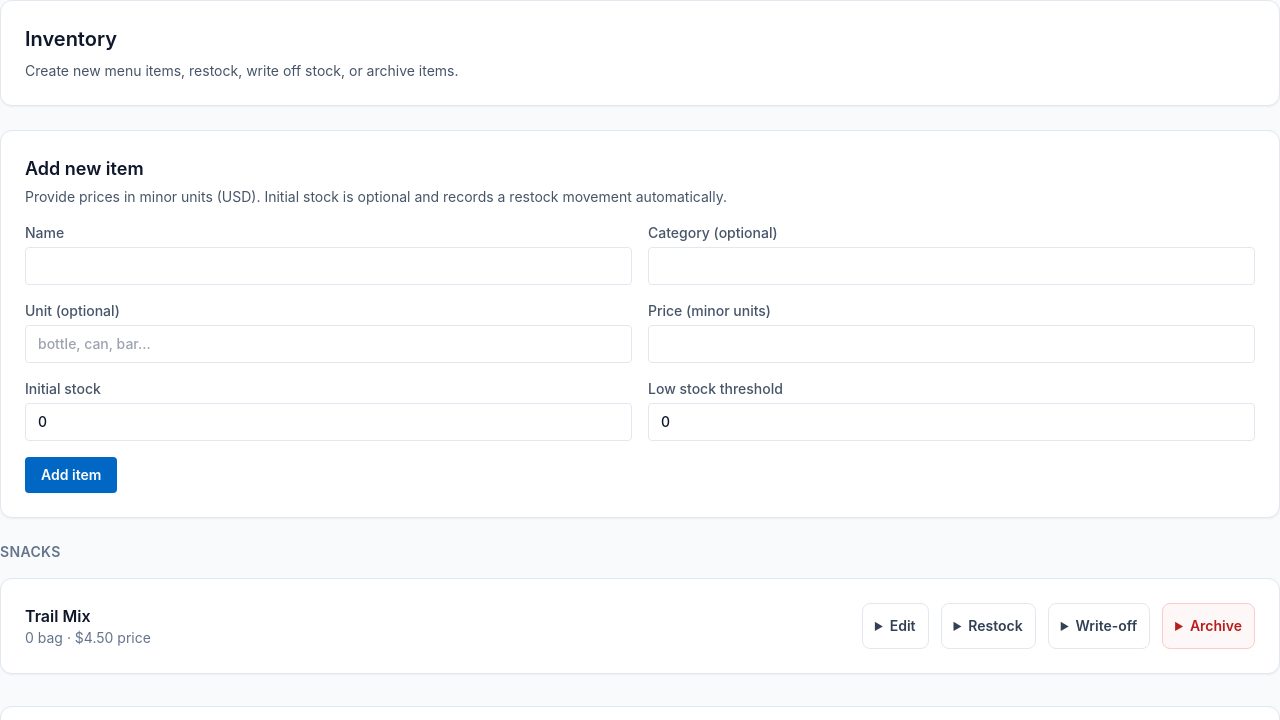
Scenario: InventoryManager archive/reactivate › requires stock=0 and typed confirmation to archive an item
expect the element "Trail Mix" is shown: met, box [0, 578, 1279, 674]
Click the heading "Archive". click: click(1216, 626)
box: [1190, 617, 1242, 634]
(page scrolled)
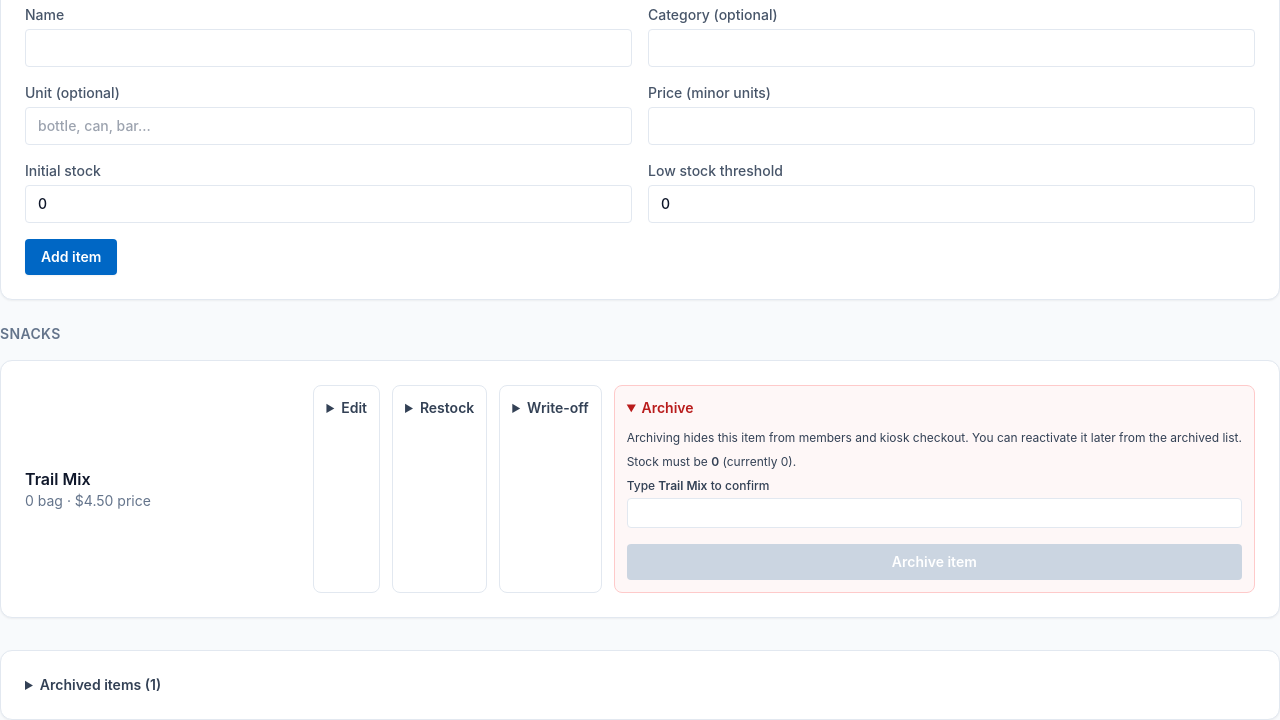
expect the button "Archive item" is disabled: met, box [627, 544, 1242, 580]
Type "Trail Mix" into the field labelled "Type Trail Mix to confirm". click: (934, 513)
box: [627, 498, 1242, 528]
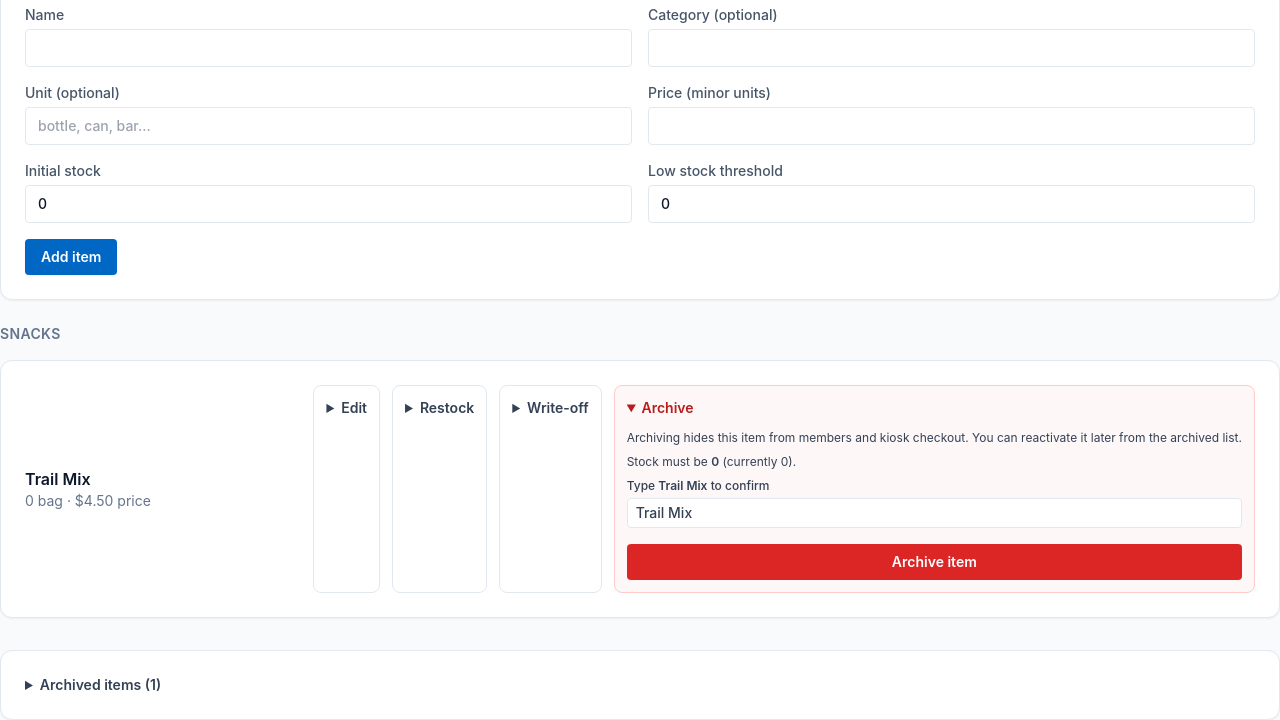
expect the button "Archive item" is enabled: met
Click the button "Archive item". click: click(934, 562)
box: [627, 544, 1242, 580]
(page scrolled)
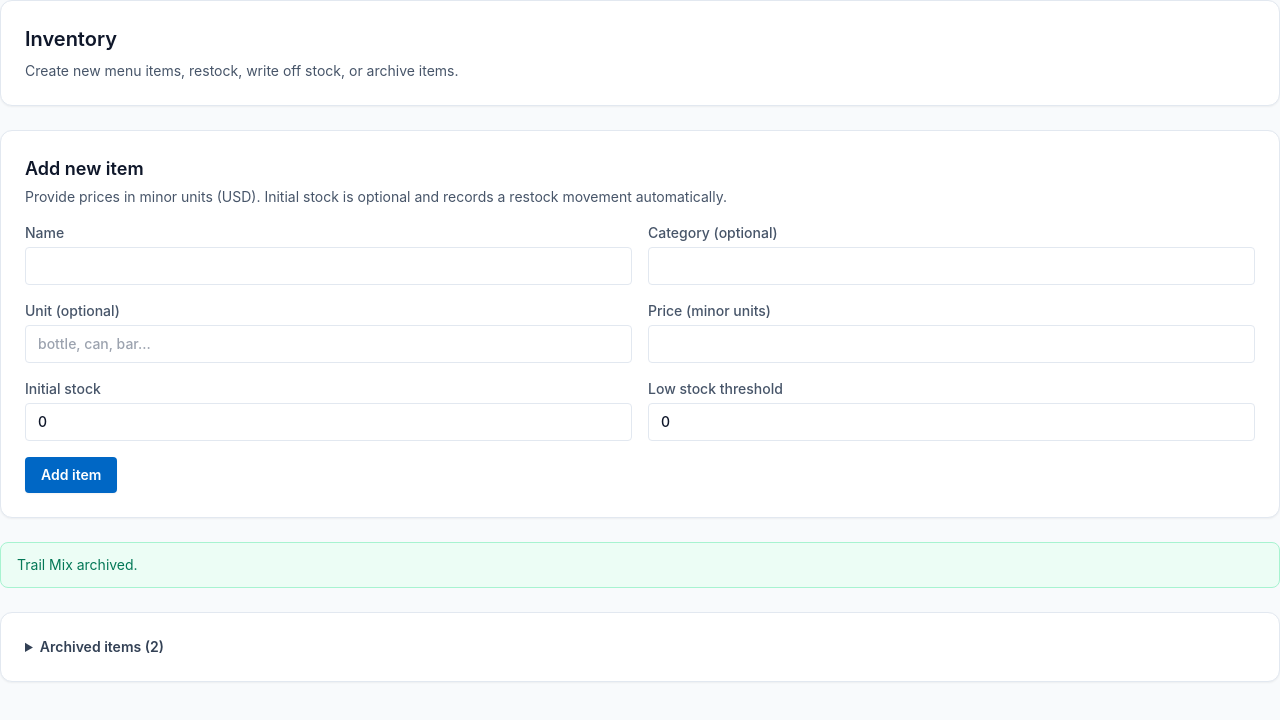
expect the heading "Archived items (2)" is shown: met, box [40, 638, 164, 655]
